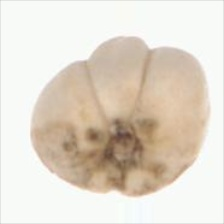L5: (63, 119, 175, 187), (82, 32, 158, 120)
L6: (29, 34, 211, 198)
